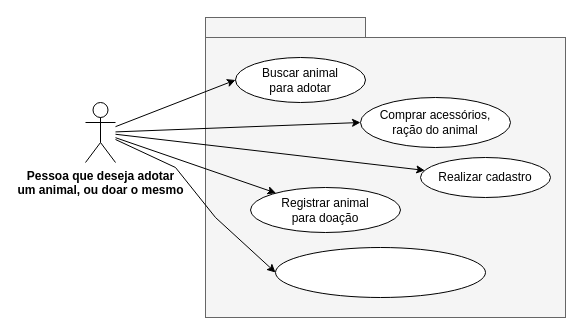
This 583x335 diagram has some shape labels left out. The shapes that lost their labels are listed below. From the top down, each one's centre as x and y in pixels, then its label:
(x=285, y=27): Animore Project
(x=380, y=272): Registrar produtos, acessórios do animal para doação
